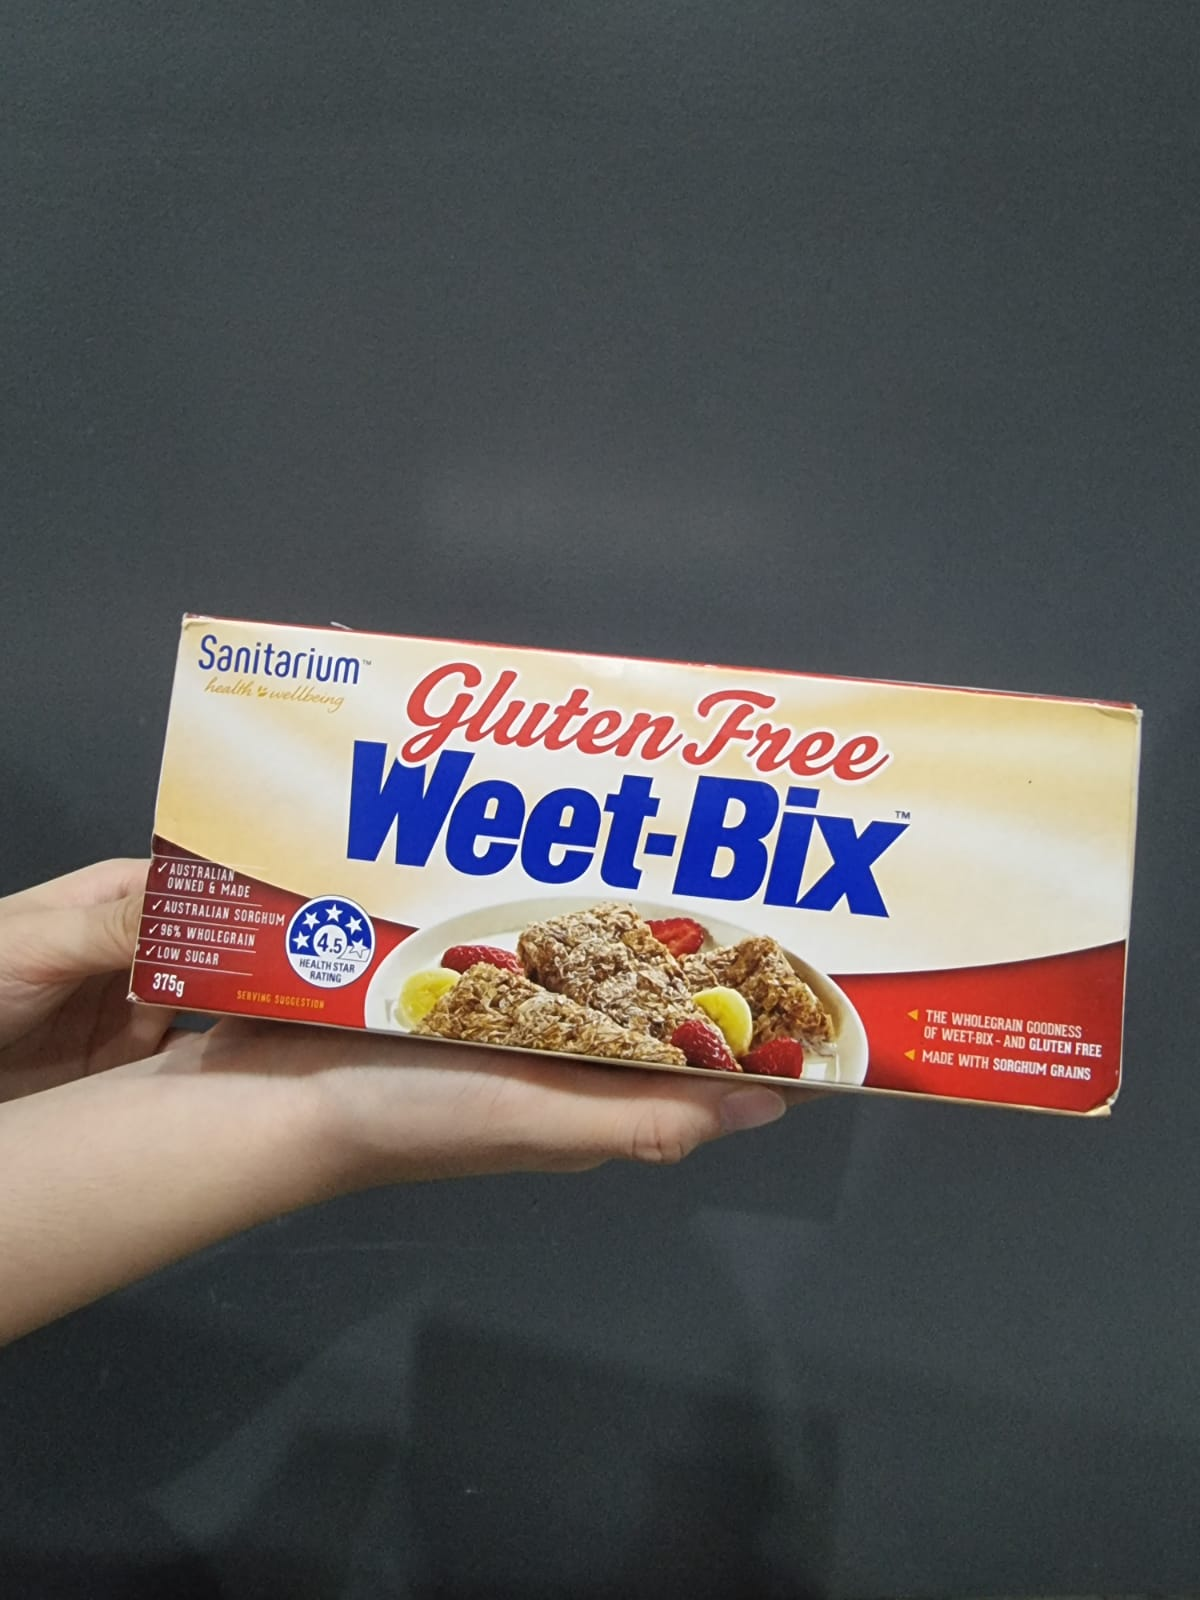Biscuits: (245, 682, 1103, 1077)
